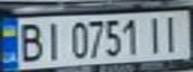0: (66, 18, 90, 60)
1: (121, 16, 142, 56)
5: (103, 16, 124, 57)
7: (84, 17, 106, 59)
B: (12, 20, 48, 63)
I: (157, 12, 187, 53), (39, 19, 66, 62), (142, 14, 169, 54)
